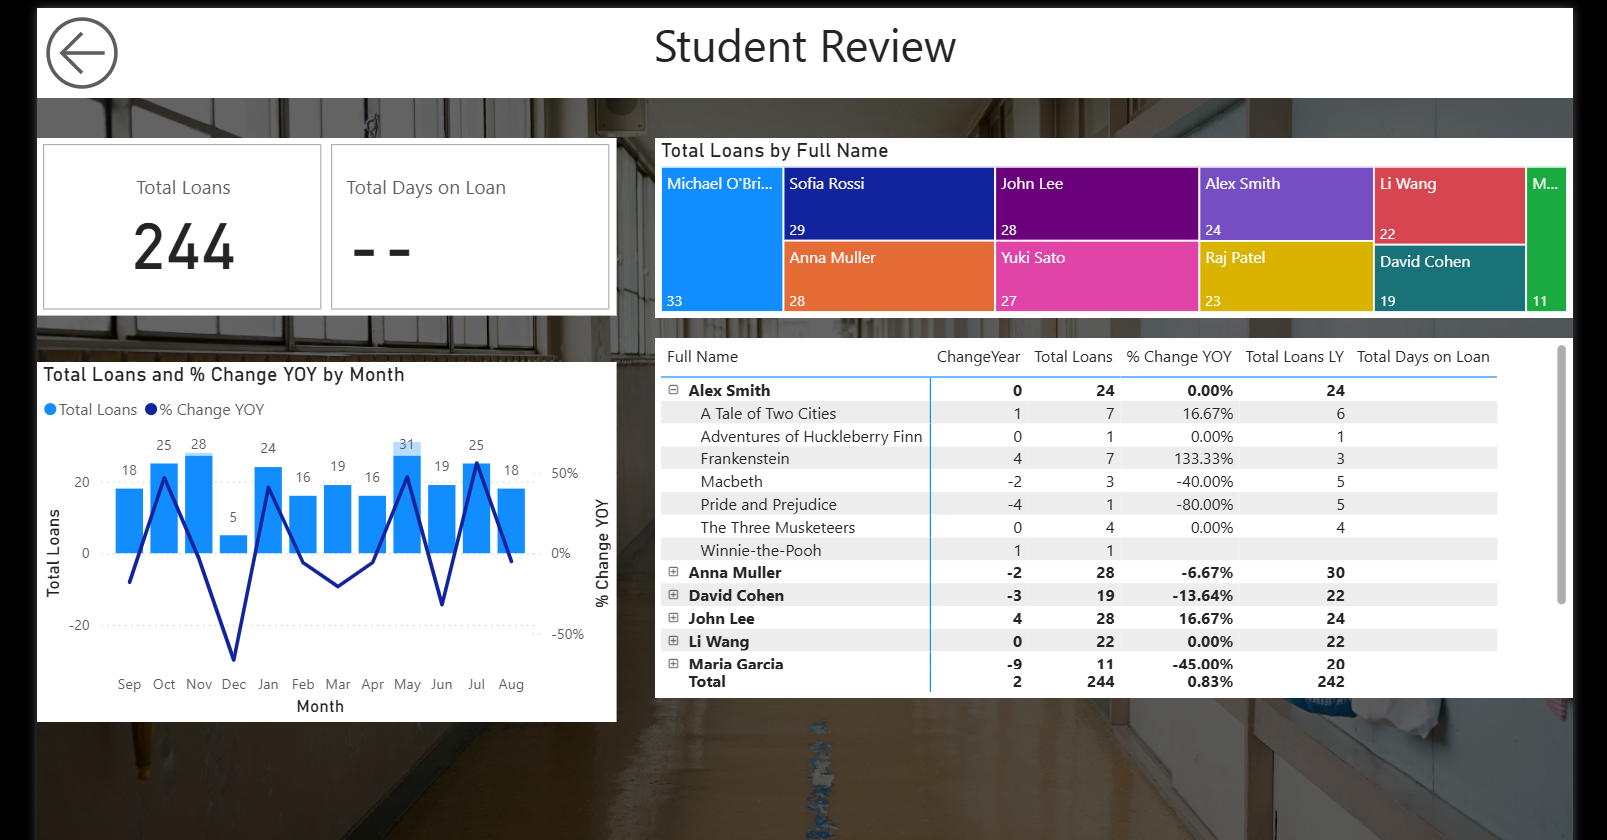

This screenshot's page, from the dashboard's own definition file:
{"tool":"powerbi","page":{"name":"Student Review","canvas":[1280,720],"ordinal":3},"visuals":[{"type":"textbox","box":[0,0,1280,75],"z":0},{"type":"actionButton","box":[0,0,78.3,75],"z":1000},{"type":"cardVisual","fields":{"Data":["MyMeasures.Total Loans","MyMeasures.Total Days on Loan","MyMeasures.Total Days on Loan"]},"box":[0,108.3,483.3,148.3],"z":2000},{"type":"treemap","fields":{"Group":["Student.Full Name"],"Values":["MyMeasures.Total Loans"]},"box":[515,108.3,765,150],"z":3000},{"type":"lineStackedColumnComboChart","fields":{"Category":["dimDate.SchoolYear Hierarchy.SchoolYear","dimDate.SchoolYear Hierarchy.Month"],"Y":["MyMeasures.Total Loans"],"Y2":["MyMeasures.% Change YOY"]},"box":[0,295,482.5,300],"z":4000},{"type":"pivotTable","fields":{"Values":["MyMeasures.ChangeYear","MyMeasures.Total Loans","MyMeasures.% Change YOY","MyMeasures.Total Loans LY","MyMeasures.Total Days on Loan"],"Rows":["Student.Full Name","Loans.pu_bookname"]},"box":[515,275,765,300],"z":5000}]}

Visuals, with their boxes in screenshot pixels (x1, y1, x2, y2):
textbox: left=33, top=0, right=1562, bottom=90
actionButton: left=33, top=0, right=127, bottom=90
cardVisual - MyMeasures.Total Loans x MyMeasures.Total Days on Loan: left=33, top=129, right=611, bottom=307
treemap - Student.Full Name x MyMeasures.Total Loans: left=649, top=129, right=1562, bottom=309
lineStackedColumnComboChart - dimDate.SchoolYear Hierarchy.SchoolYear x dimDate.SchoolYear Hierarchy.Month: left=33, top=352, right=610, bottom=711
pivotTable - MyMeasures.ChangeYear x MyMeasures.Total Loans: left=649, top=328, right=1562, bottom=687
